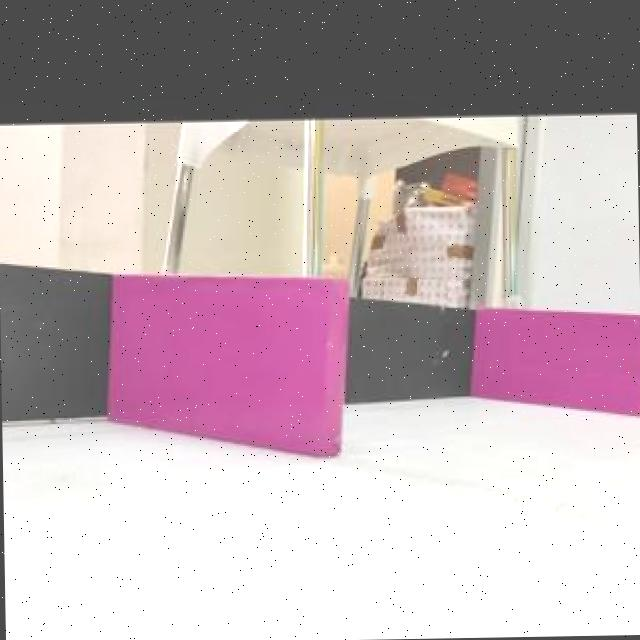xparking: (124, 275, 344, 442), (487, 316, 640, 410)
